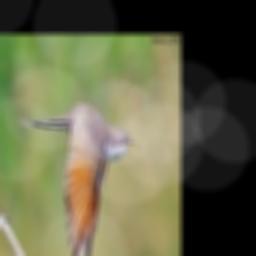Cuckoo: (18, 102, 139, 256)
